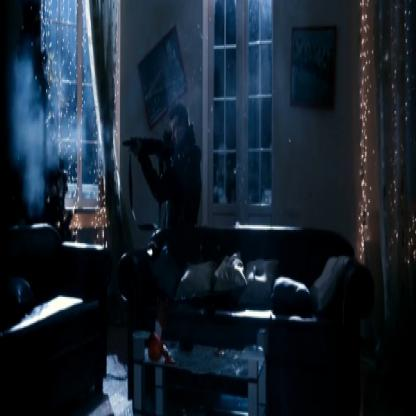Gun: (116, 126, 184, 184)
